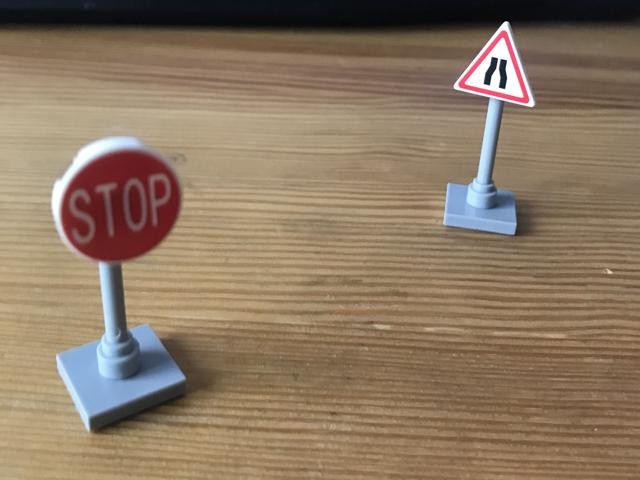stop: (53, 139, 185, 265)
verengte fahrbahn: (453, 19, 538, 108)
